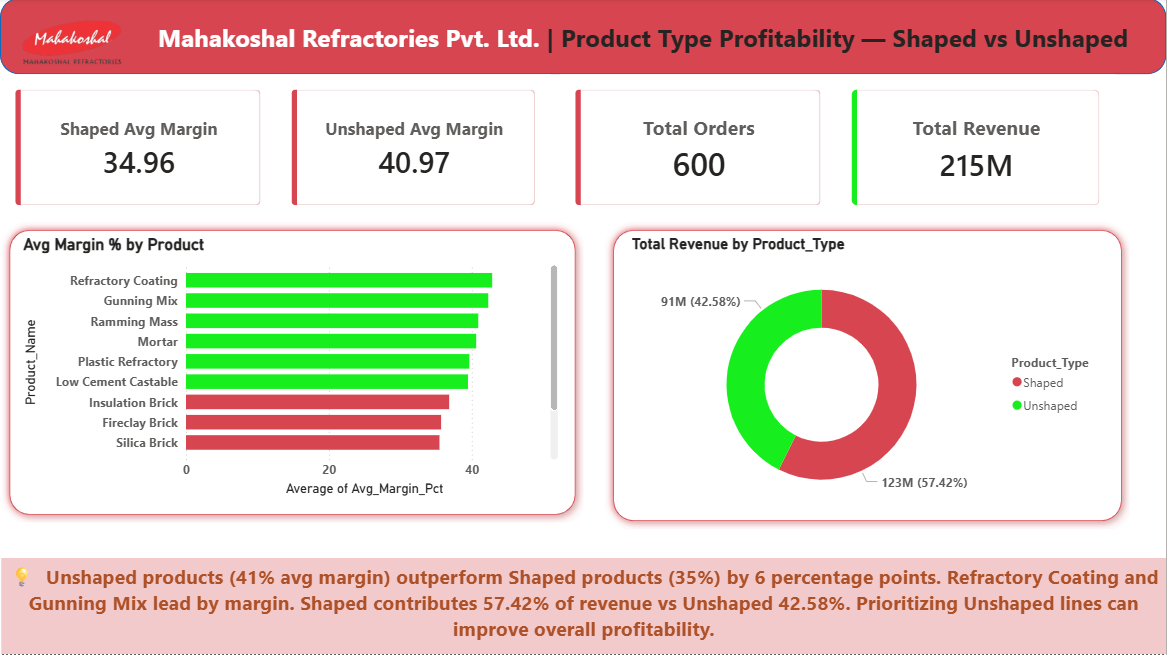

What the dashboard file says about the page in this screenshot:
{"tool":"powerbi","page":{"name":"Product Profitability","canvas":[1280,720],"ordinal":2},"visuals":[{"type":"shape","box":[0,0,1280.3,83.7],"z":0},{"type":"textbox","box":[157.8,20.6,1096.4,63.1],"z":1000},{"type":"image","box":[0,0,157.8,96.1],"z":2000},{"type":"cardVisual","fields":{"Data":["Avg(Product_Profitability.Avg_Margin_Pct)"]},"box":[0,83.7,303.3,161.9],"z":3000},{"type":"cardVisual","fields":{"Data":["Avg(Product_Profitability.Avg_Margin_Pct)"]},"box":[303.3,83.7,301.9,161.9],"z":4000},{"type":"cardVisual","fields":{"Data":["Raw_Data.Total Orders"]},"box":[614.8,83.7,303.3,161.9],"z":5000},{"type":"cardVisual","fields":{"Data":["Raw_Data.Total Revenue"]},"box":[918,83.7,306,161.9],"z":6000},{"type":"shape","box":[1.4,245.6,639.5,330.7],"z":7000},{"type":"shape","box":[664.2,245.6,576.3,337.6],"z":8000},{"type":"clusteredBarChart","title":"Avg Margin % by Product","fields":{"Category":["Product_Profitability.Product_Name"],"Y":["Avg(Product_Profitability.Avg_Margin_Pct)"]},"box":[20.6,259.3,596.9,292.3],"z":9000},{"type":"donutChart","fields":{"Category":["Raw_Data.Product_Type"],"Y":["Raw_Data.Total Revenue"]},"box":[688.9,259.3,528.3,311.5],"z":10000},{"type":"textbox","box":[1.4,614.8,1278.9,105.7],"z":11000}]}

Visuals, with their boxes in screenshot pixels (x1, y1, x2, y2), scaled from the page's 1280x720 canvas onto the 1167x655 screenshot:
shape: bbox(0, 0, 1166, 76)
textbox: bbox(144, 19, 1143, 76)
image: bbox(0, 0, 144, 87)
cardVisual - Avg(Product_Profitability.Avg_Margin_Pct): bbox(0, 76, 277, 223)
cardVisual - Avg(Product_Profitability.Avg_Margin_Pct): bbox(277, 76, 552, 223)
cardVisual - Raw_Data.Total Orders: bbox(561, 76, 837, 223)
cardVisual - Raw_Data.Total Revenue: bbox(837, 76, 1116, 223)
shape: bbox(1, 223, 584, 524)
shape: bbox(606, 223, 1131, 531)
"Avg Margin % by Product" clusteredBarChart: bbox(19, 236, 563, 502)
donutChart - Raw_Data.Product_Type x Raw_Data.Total Revenue: bbox(628, 236, 1110, 519)
textbox: bbox(1, 559, 1166, 654)
